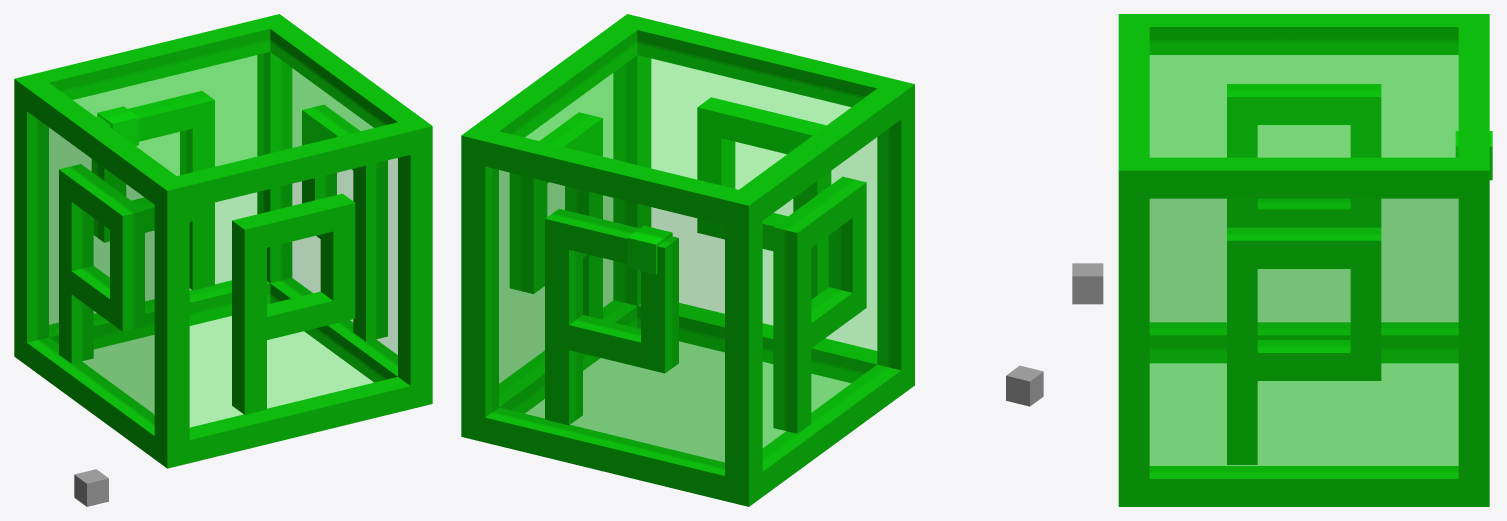
The model's file is BFXPshBox.fbx.
3 views of the same model, side by side, from view 1: azimuth 30°, elevation 25°; view 2: azimuth 150°, elevation 25°; view 3: azimuth 270°, elevation 25° (orthographic). The views are drawn at different scales.
Parts seen in each view (by area): view 1: polySurface27, polySurface24, polySurface23, polySurface21, pCube14, polySurface13, pCube16, polySurface22, pCube15, pCube17, pCube18, pCube19; view 2: polySurface27, polySurface21, polySurface24, polySurface23, pCube17, polySurface13, pCube16, polySurface22, pCube14, pCube15, pCube19, pCube18; view 3: polySurface27, polySurface22, polySurface23, polySurface24, polySurface13, pCube15, pCube16, pCube18.
Boxes of the visible parts, bbox=[...] form: polySurface27: bbox=[14, 14, 432, 468]; polySurface24: bbox=[61, 40, 386, 175]; polySurface23: bbox=[37, 119, 154, 425]; polySurface21: bbox=[49, 54, 263, 330]; pCube14: bbox=[232, 193, 355, 414]; polySurface13: bbox=[83, 294, 386, 426]; pCube16: bbox=[59, 164, 144, 363]; polySurface22: bbox=[280, 61, 397, 366]; pCube15: bbox=[302, 105, 387, 341]; pCube17: bbox=[91, 91, 214, 290]; pCube18: bbox=[74, 469, 108, 506]; pCube19: bbox=[97, 106, 138, 145]; polySurface27: bbox=[461, 14, 914, 506]; polySurface21: bbox=[491, 168, 724, 469]; polySurface24: bbox=[511, 42, 864, 189]; polySurface23: bbox=[763, 128, 889, 460]; pCube17: bbox=[545, 209, 678, 425]; polySurface13: bbox=[512, 318, 864, 461]; pCube16: bbox=[773, 176, 866, 433]; polySurface22: bbox=[499, 64, 625, 395]; pCube14: bbox=[697, 97, 831, 299]; pCube15: bbox=[509, 112, 602, 319]; pCube19: bbox=[627, 225, 672, 274]; pCube18: bbox=[1006, 365, 1043, 406]; polySurface27: bbox=[1118, 14, 1489, 506]; polySurface22: bbox=[1150, 199, 1458, 472]; polySurface23: bbox=[1150, 55, 1457, 327]; polySurface24: bbox=[1150, 40, 1458, 157]; polySurface13: bbox=[1150, 348, 1457, 465]; pCube15: bbox=[1227, 227, 1381, 464]; pCube16: bbox=[1227, 84, 1381, 227]; pCube18: bbox=[1072, 263, 1103, 304].
Size of the model in its own units: 16.5 by 12 by 13.6.
